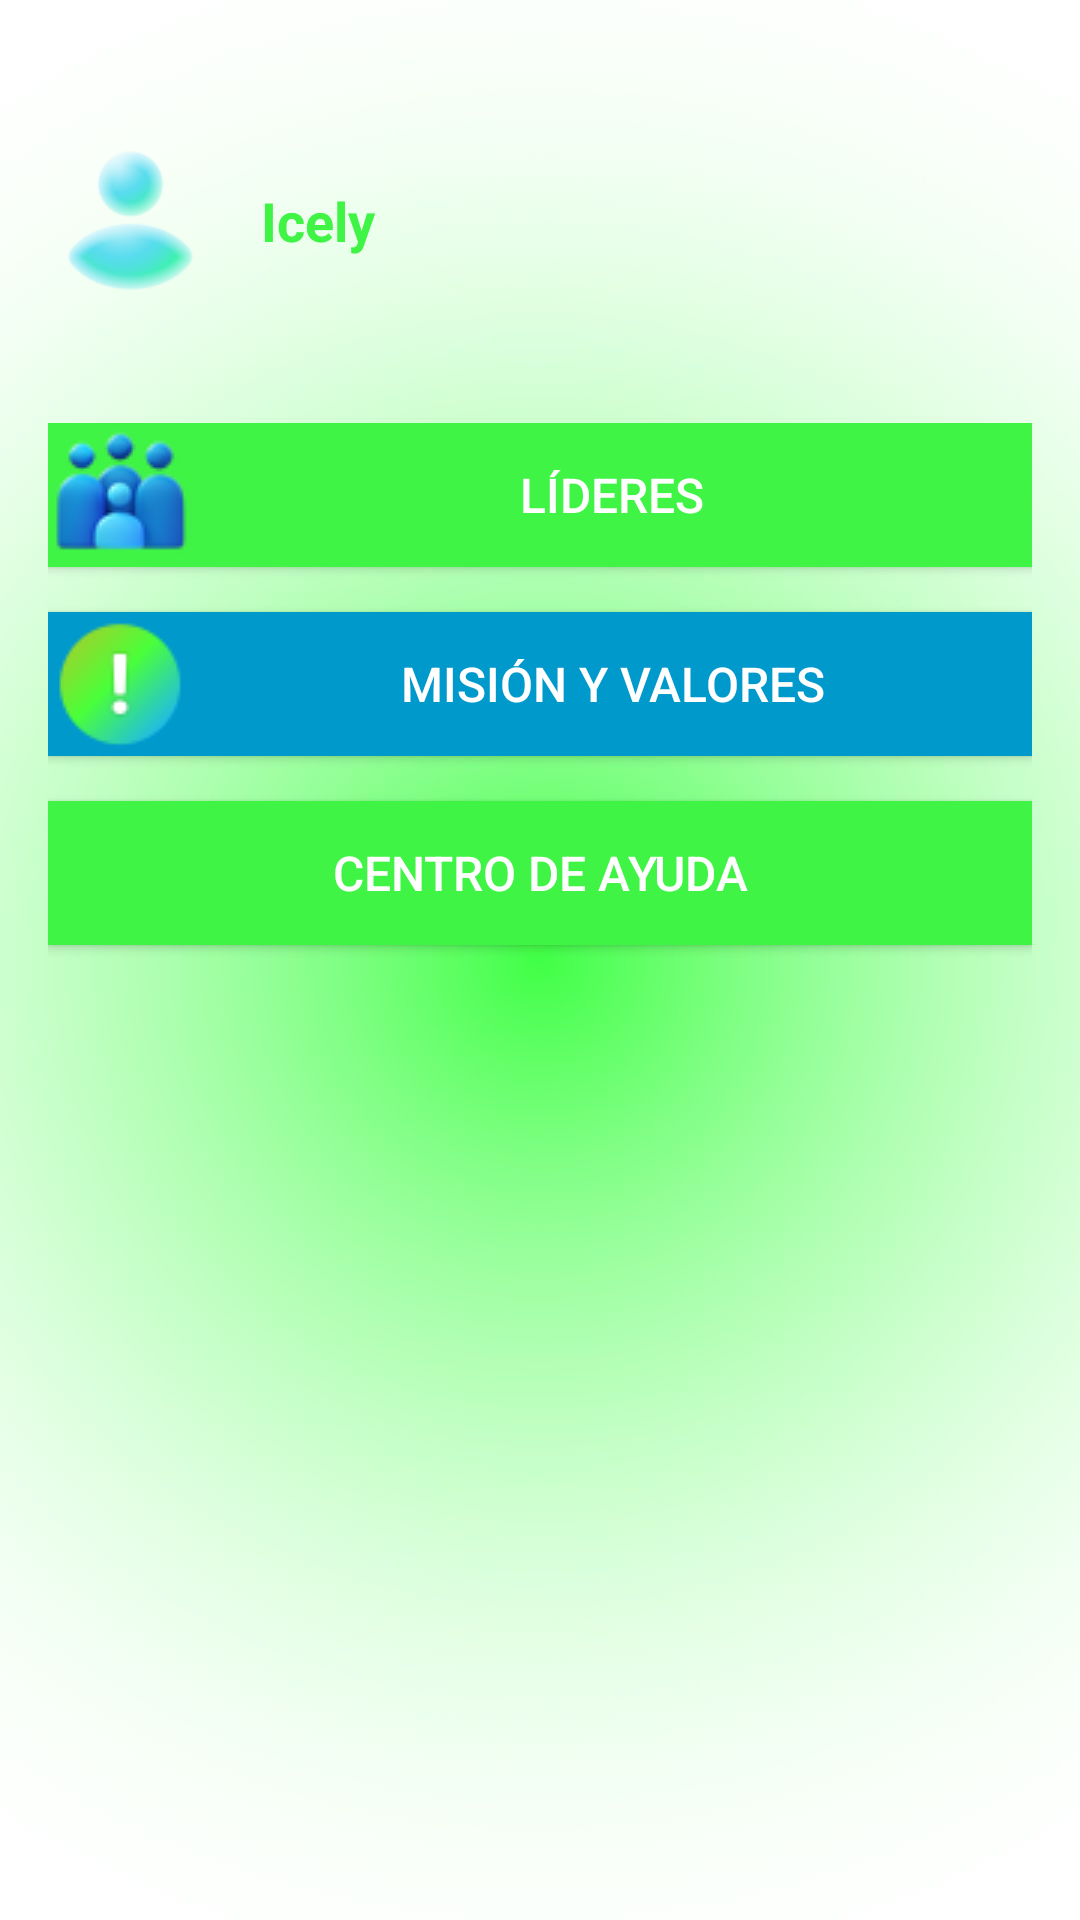

Screen size 1080 × 1920. Icon name, then its box in pixels as (x1, y1, x2, y2):
user: (69, 153, 193, 290)
